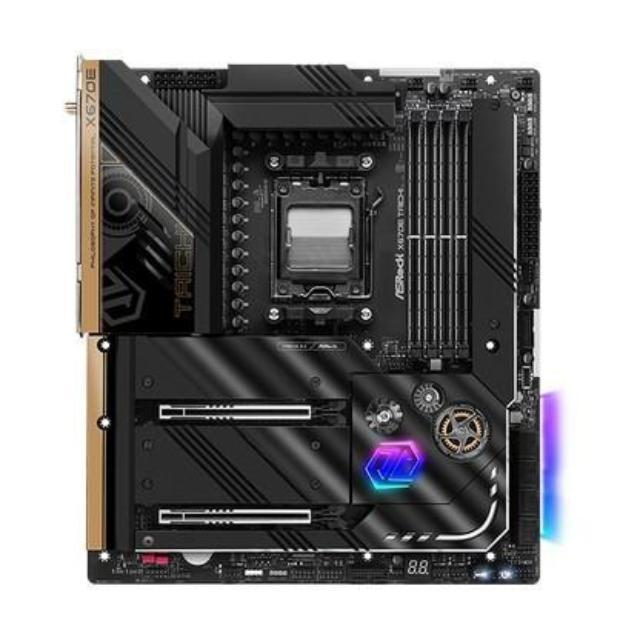Mainboard: (67, 45, 553, 597)
